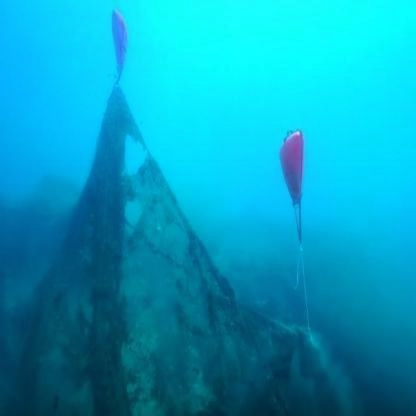misc: (257, 116, 333, 290)
